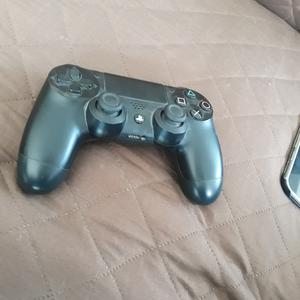controller: (16, 64, 222, 205)
